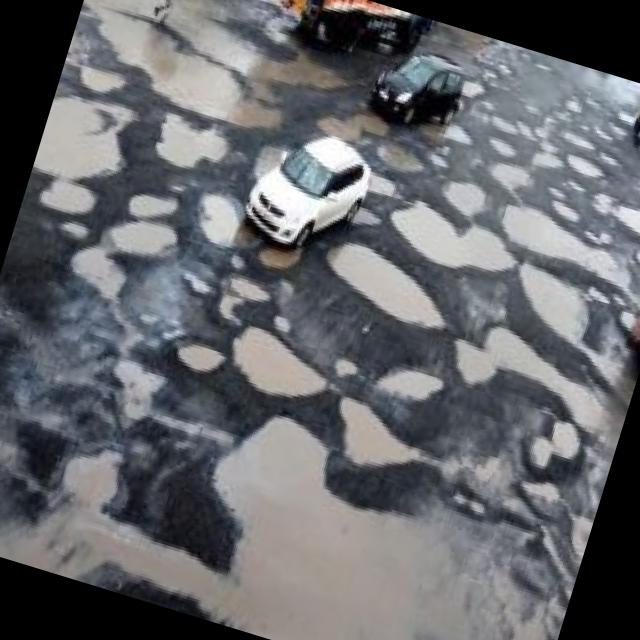Potholes: (156, 383, 599, 640), (57, 0, 355, 161), (416, 286, 640, 491), (28, 230, 196, 423), (25, 432, 193, 604), (485, 256, 640, 427), (306, 216, 480, 348), (298, 368, 444, 520), (367, 181, 548, 302), (22, 76, 158, 232), (486, 184, 640, 296), (220, 288, 346, 416), (94, 188, 200, 278), (367, 342, 453, 422), (590, 162, 640, 299), (357, 124, 442, 202), (472, 123, 554, 202), (386, 94, 474, 161), (183, 190, 260, 258), (553, 144, 607, 190)
